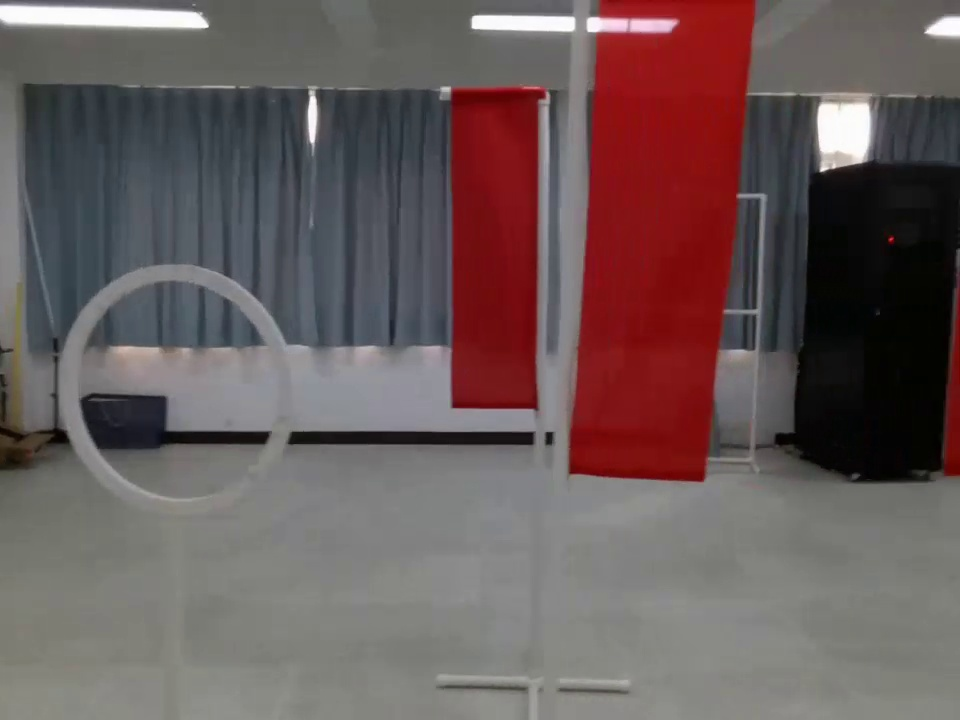qi: (560, 4, 751, 472), (442, 71, 556, 429)
quan: (50, 257, 296, 510)
